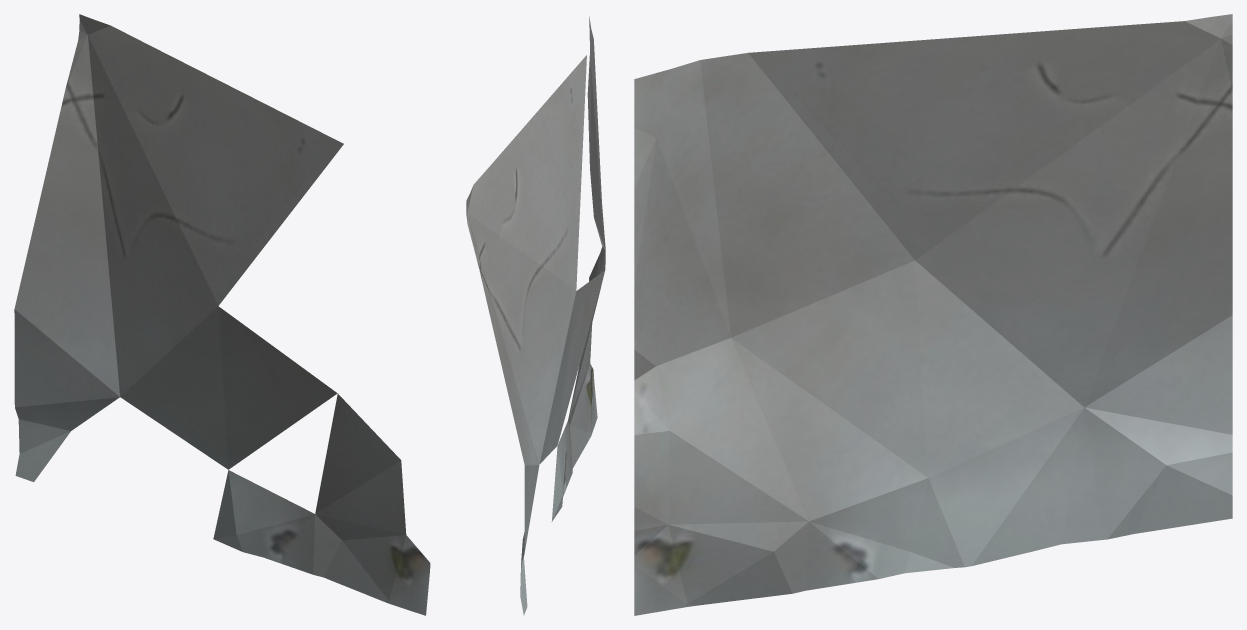
The picture shows the model from 3 angles, left to right: view 1: azimuth 30°, elevation 25°; view 2: azimuth 150°, elevation 25°; view 3: azimuth 270°, elevation 25°; orthographic projection. The views are drawn at different scales.
Size of the model in its own units: 0.6943 by 1.67 by 1.67.
Materials: 3 (3 with a texture image).
